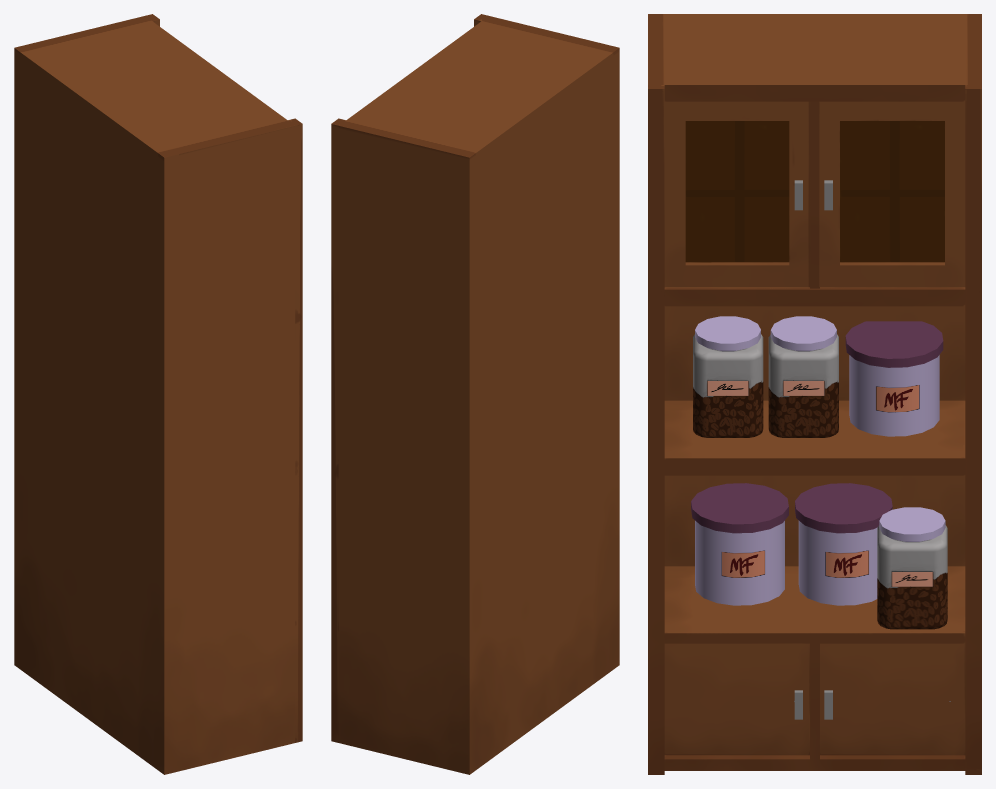
The model's file is cupboard_1.fbx.
The picture shows the model from 3 angles, left to right: view 1: azimuth 30°, elevation 25°; view 2: azimuth 150°, elevation 25°; view 3: azimuth 270°, elevation 25°; orthographic projection. The views are drawn at different scales.
Parts seen in each view (by area): view 1: group2_Jar3; view 2: group2_Jar3; view 3: group2_Jar3.
Boxes of the visible parts, <box> form: group2_Jar3: <box>14,14,302,774</box>; group2_Jar3: <box>331,14,619,774</box>; group2_Jar3: <box>648,14,981,774</box>.
Size of the model in its own units: 96.94 by 413 by 182.
3 materials, 3 textured.
